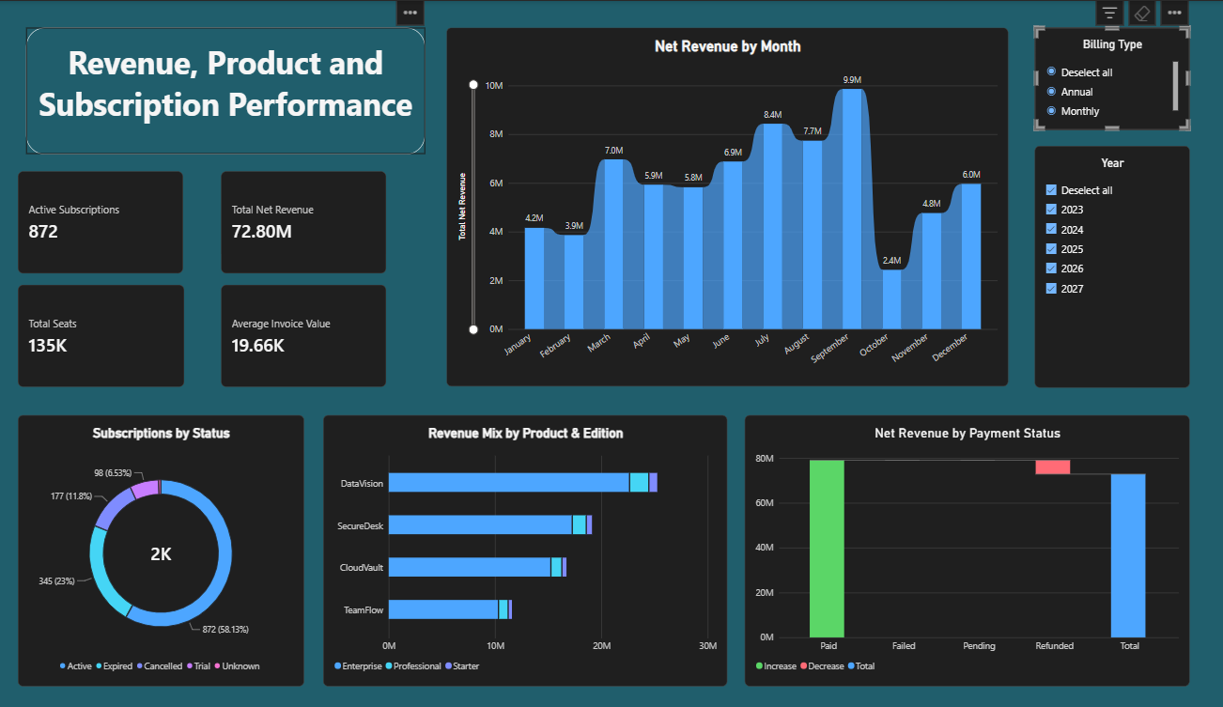

The dashboard page shown, as its layout file describes it:
{"tool":"powerbi","page":{"name":"Revenue & Subscriptions","canvas":[1920,1080],"ordinal":0},"visuals":[{"type":"cardVisual","fields":{"Data":["analytics fct_invoices.Total Net Revenue"]},"box":[347.9,259.3,259.3,156.4],"z":0},{"type":"cardVisual","fields":{"Data":["analytics fct_subscriptions.Active Subscriptions"]},"box":[28.8,259.3,259.3,156.4],"z":1000},{"type":"textbox","box":[43.2,41.2,625.7,193.5],"z":2000},{"type":"cardVisual","fields":{"Data":["analytics fct_subscriptions.Total Seats"]},"box":[28.8,432.2,261.4,156.4],"z":3000},{"type":"cardVisual","fields":{"Data":["analytics fct_invoices.Average Invoice Value"]},"box":[347.9,432.2,259.3,156.4],"z":4000},{"type":"columnChart","title":"Net Revenue by Month","fields":{"Category":["analytics dim_date.month_name"],"Y":["analytics fct_invoices.Total Net Revenue"]},"box":[701.9,41.2,881,547.5],"z":5000},{"type":"listSlicer","title":"Year","fields":{"Values":["analytics dim_date.year"]},"box":[1624,220.2,242.9,368.4],"z":6000},{"type":"donutChart","title":"Subscriptions by Status","fields":{"Category":["analytics fct_subscriptions.status"],"Y":["analytics fct_subscriptions.Total Subscriptions"]},"box":[28.8,631.9,448.7,413.7],"z":7000},{"type":"barChart","title":"Revenue Mix by Product & Edition","fields":{"Category":["analytics dim_products.product_name"],"Series":["analytics dim_products.edition"],"Y":["analytics fct_invoices.Total Net Revenue"]},"box":[508.4,631.9,634,413.7],"z":8000},{"type":"waterfallChart","title":"Net Revenue by Payment Status","fields":{"Category":["analytics fct_invoices.payment_status"],"Y":["analytics fct_invoices.Total Net Revenue"]},"box":[1169.1,631.9,697.8,413.7],"z":9000},{"type":"listSlicer","title":"Billing Type","fields":{"Values":["analytics dim_products.billing_type"]},"box":[1624,41.2,242.9,156.4],"z":10000}]}

Visuals, with their boxes in screenshot pixels (x1, y1, x2, y2), scaled from the page's 1920x1080 canvas onto the 1223x707 screenshot:
cardVisual - analytics fct_invoices.Total Net Revenue: [left=222, top=170, right=387, bottom=272]
cardVisual - analytics fct_subscriptions.Active Subscriptions: [left=18, top=170, right=184, bottom=272]
textbox: [left=28, top=27, right=426, bottom=154]
cardVisual - analytics fct_subscriptions.Total Seats: [left=18, top=283, right=185, bottom=385]
cardVisual - analytics fct_invoices.Average Invoice Value: [left=222, top=283, right=387, bottom=385]
"Net Revenue by Month" columnChart: [left=447, top=27, right=1008, bottom=385]
"Year" listSlicer: [left=1034, top=144, right=1189, bottom=385]
"Subscriptions by Status" donutChart: [left=18, top=414, right=304, bottom=684]
"Revenue Mix by Product & Edition" barChart: [left=324, top=414, right=728, bottom=684]
"Net Revenue by Payment Status" waterfallChart: [left=745, top=414, right=1189, bottom=684]
"Billing Type" listSlicer: [left=1034, top=27, right=1189, bottom=129]
